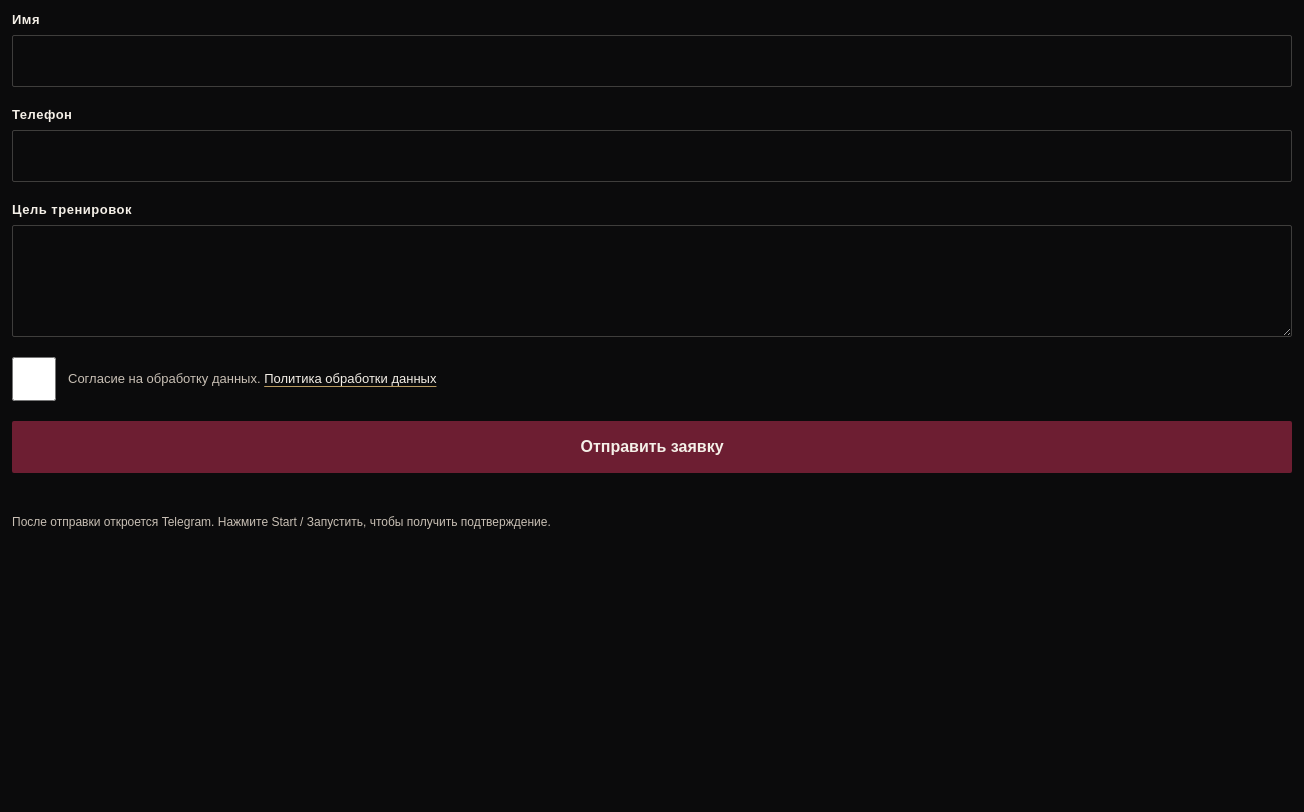
Test: LeadForm › reserves a new window during the click and navigates it only after a 201 email acceptance response
Step 1. Type "Анна Иванова" into the field labelled "Имя" → (652, 61), box [12,35,1292,87]
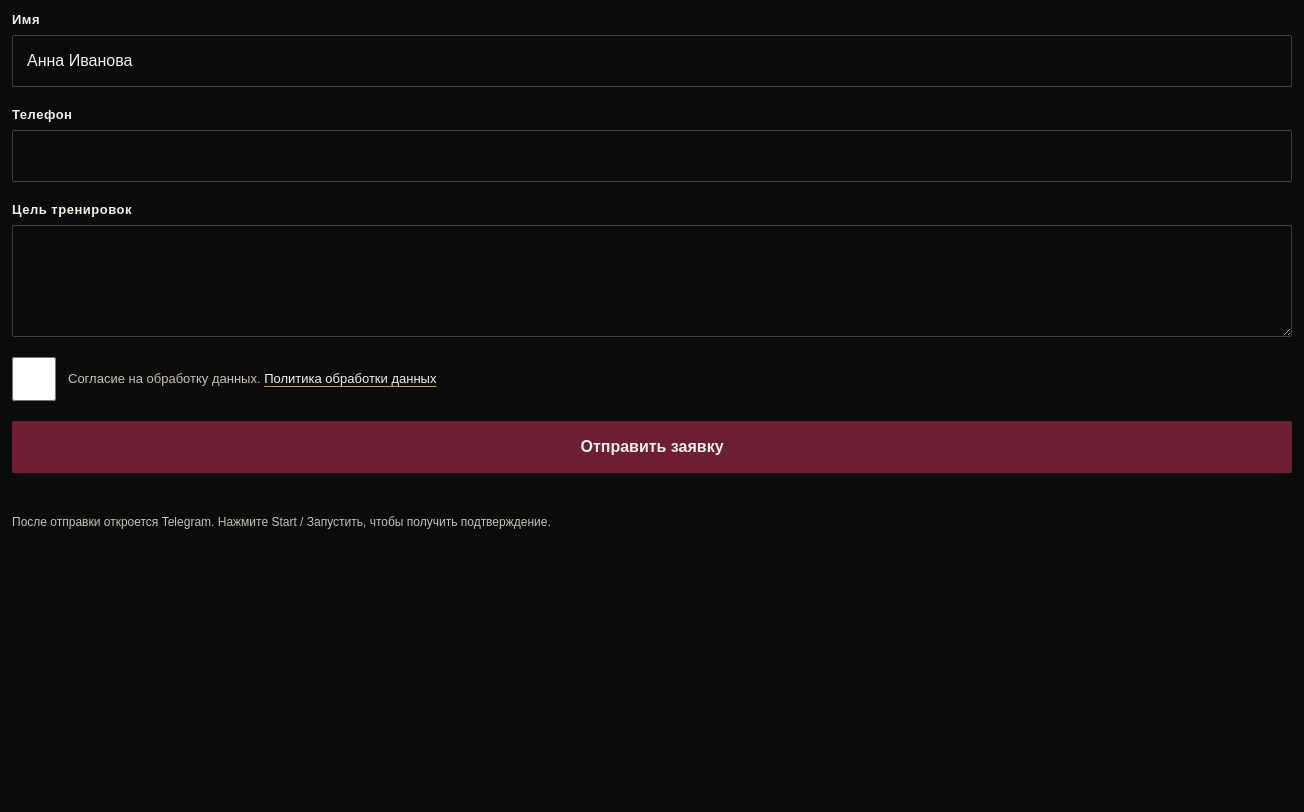
Step 2. Type "+7 900 000-00-00" into the field labelled "Телефон" → (652, 156), box [12,130,1292,182]
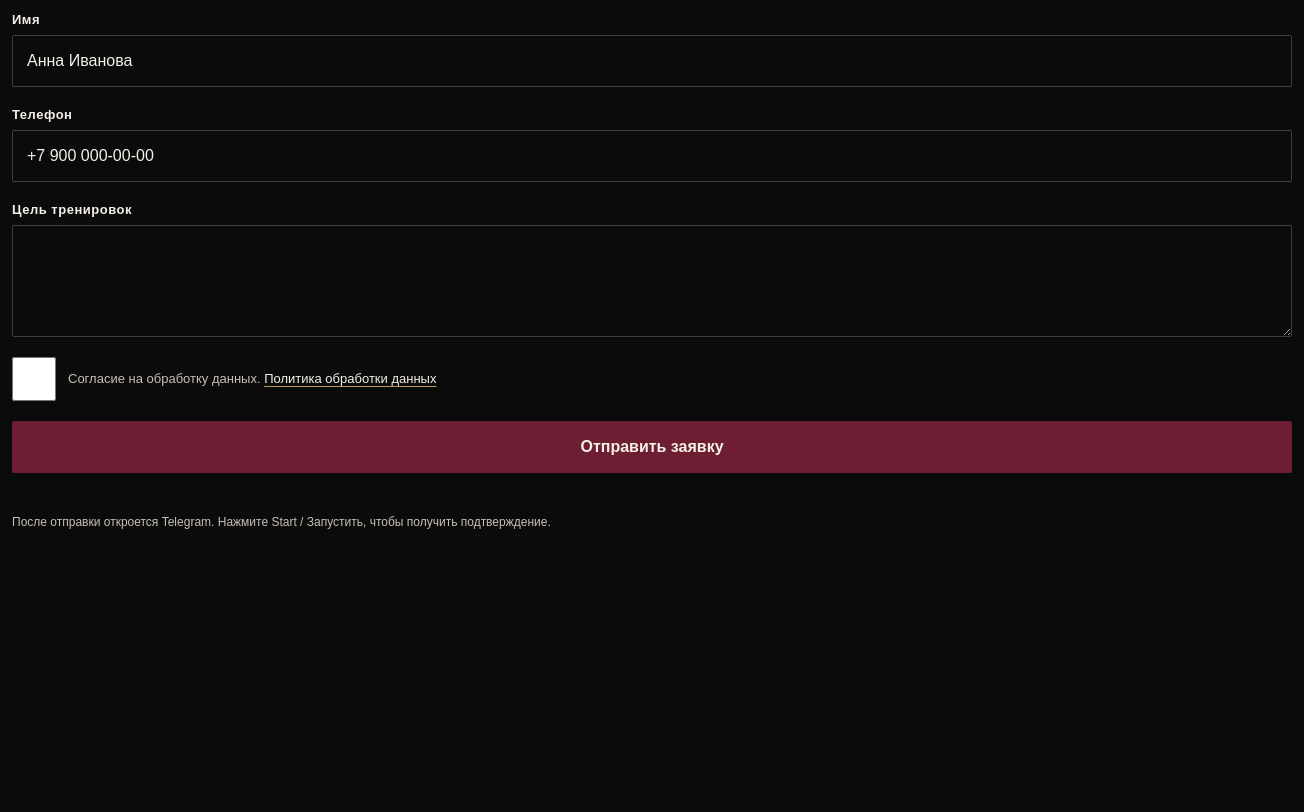
Step 3. Click the checkbox labelled "Согласие на обработку данных. Политика обработки данных" → (34, 379), box [12,357,56,401]
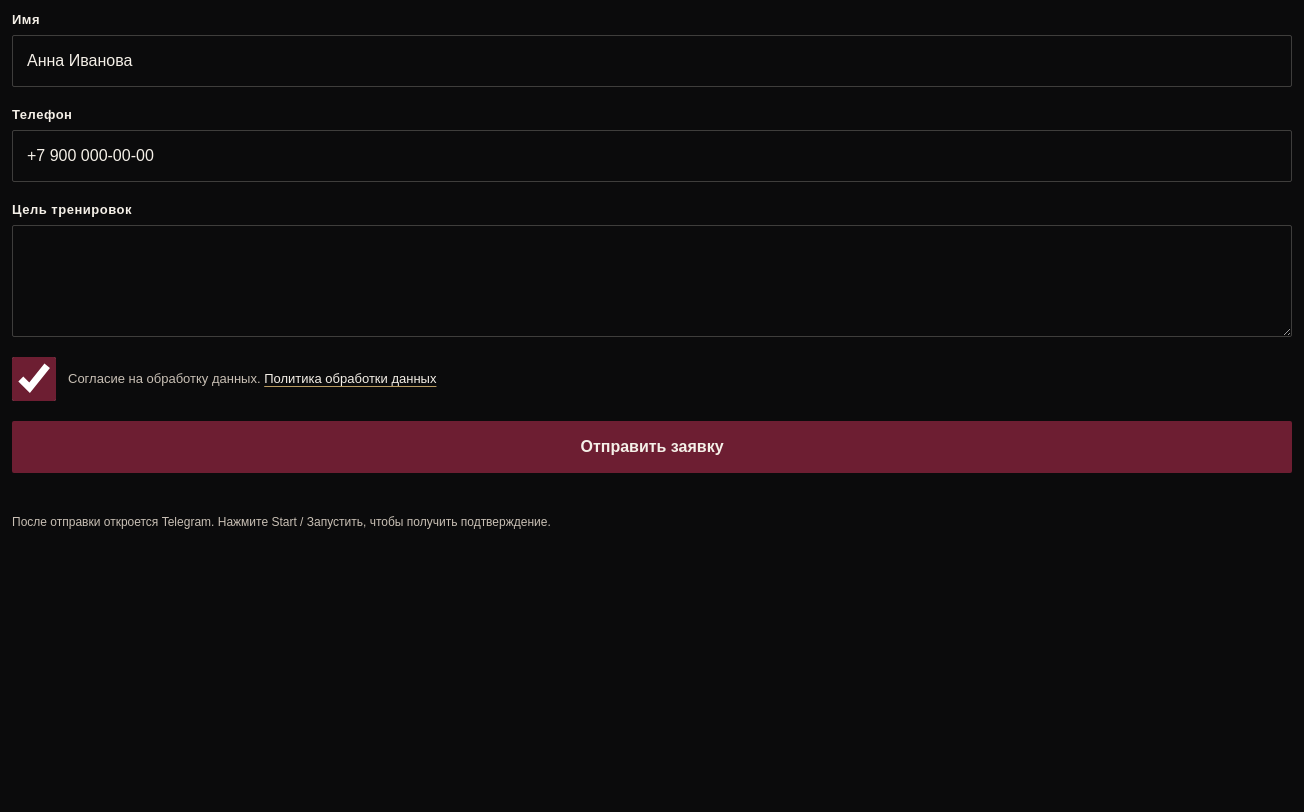
Step 4. Type "Стать сильнее" into the text box labelled "Цель тренировок" → (652, 281), box [12,225,1292,337]
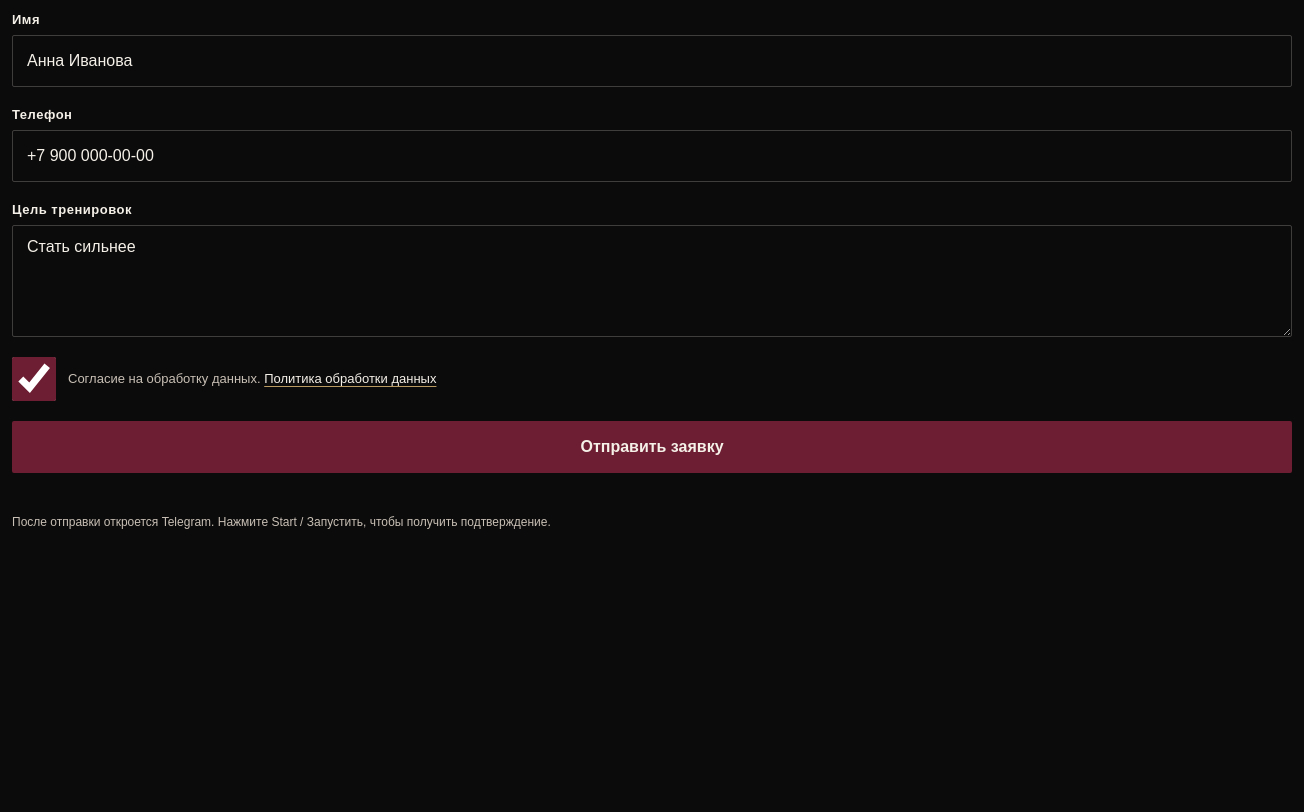
Step 5. Click the button "Отправить заявку" → (652, 447), box [12,421,1292,473]
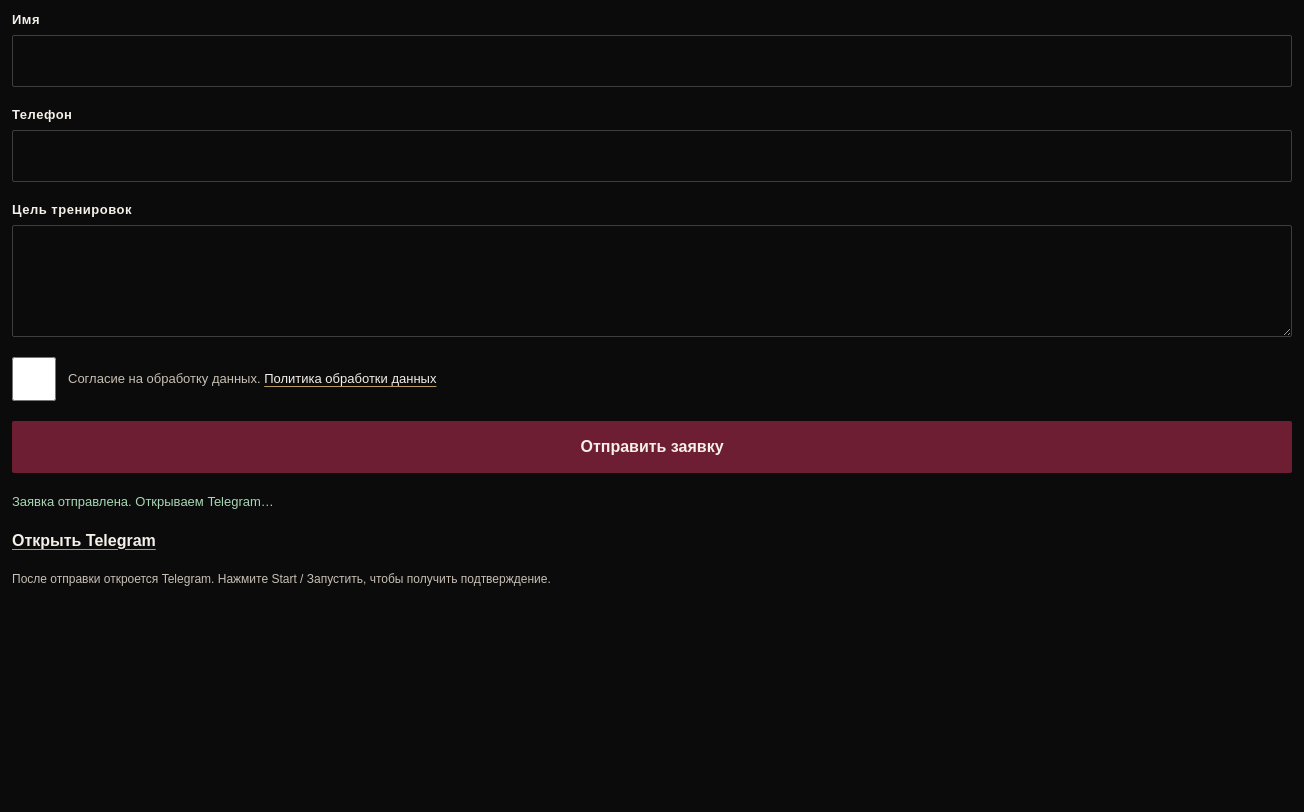
expect the text "Заявка отправлена. Открываем Telegram…" is shown: met, box [12,494,274,509]
expect the field labelled "Имя" is empty: met, box [12,35,1292,87]
expect the field labelled "Телефон" is empty: met, box [12,130,1292,182]
